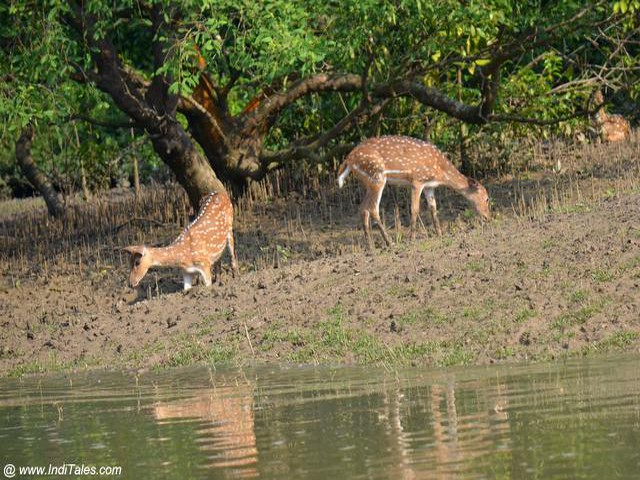deer: (329, 131, 500, 246), (121, 186, 243, 303)
